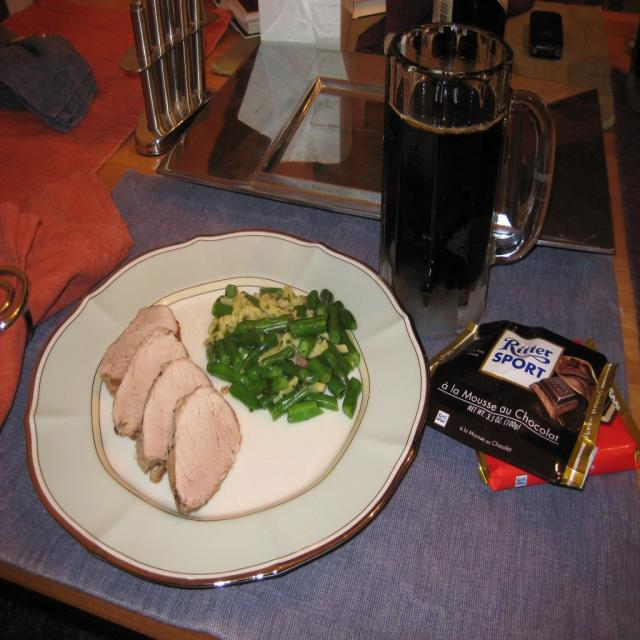rittersport: (480, 330, 562, 397)
